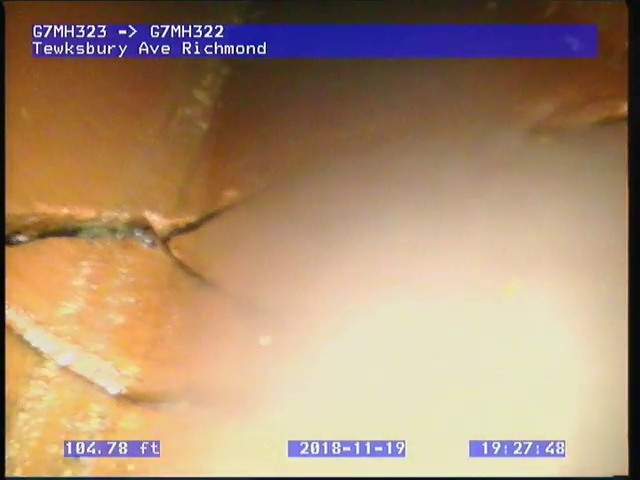crack: (5, 186, 251, 291), (570, 100, 628, 139)
